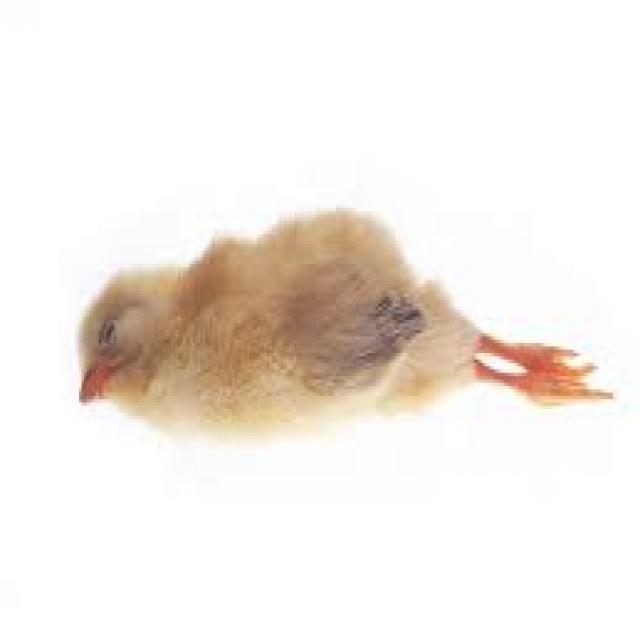poussin: (76, 202, 616, 438)
